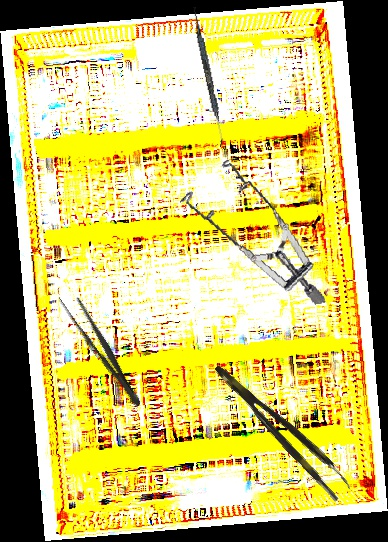Dressing Forceps: (55, 287, 148, 412)
Spatula Surgical: (188, 6, 229, 148)
Speculum: (174, 147, 326, 325)
Tissue Forceps: (212, 353, 354, 503)
